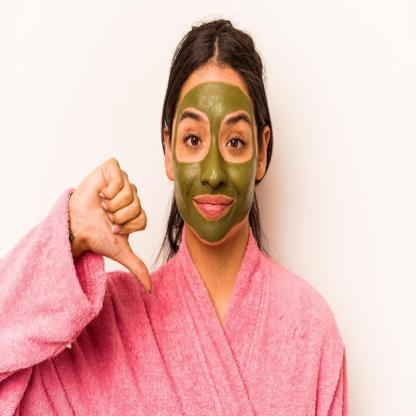thumb_down: (78, 152, 156, 298)
